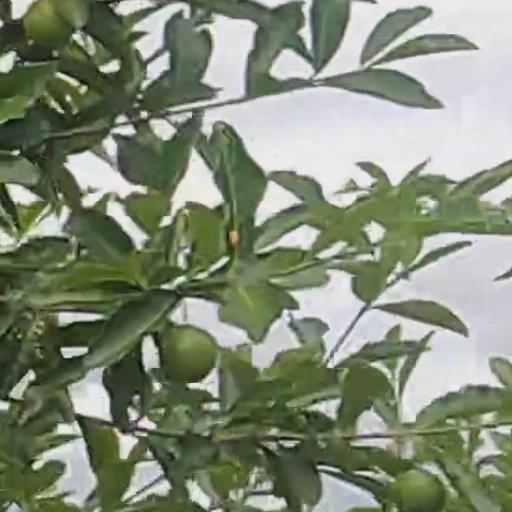acerola_verde: (160, 325, 215, 379), (393, 467, 444, 510), (25, 2, 71, 49)
